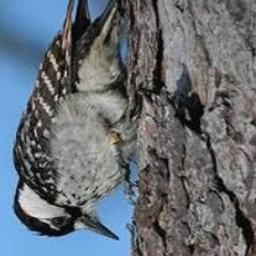Woodpecker: (11, 0, 171, 240)
